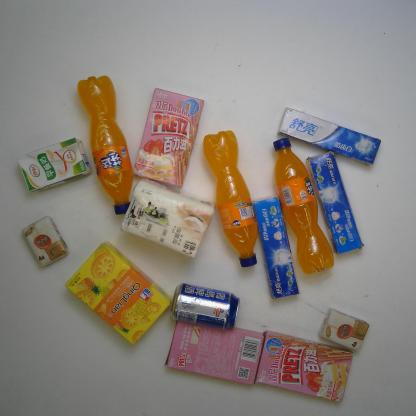Alcohol: (174, 280, 242, 328)
Dessert: (66, 242, 170, 347), (160, 314, 265, 386), (132, 87, 205, 188), (255, 328, 354, 402)
Drink: (76, 70, 140, 221), (275, 137, 334, 275), (202, 126, 258, 267)
Milk: (17, 137, 90, 198)
Personal Hygiene: (278, 103, 381, 166), (308, 150, 364, 255), (252, 195, 300, 299)
Tissue: (125, 179, 215, 260), (316, 310, 370, 354), (22, 215, 69, 265)
